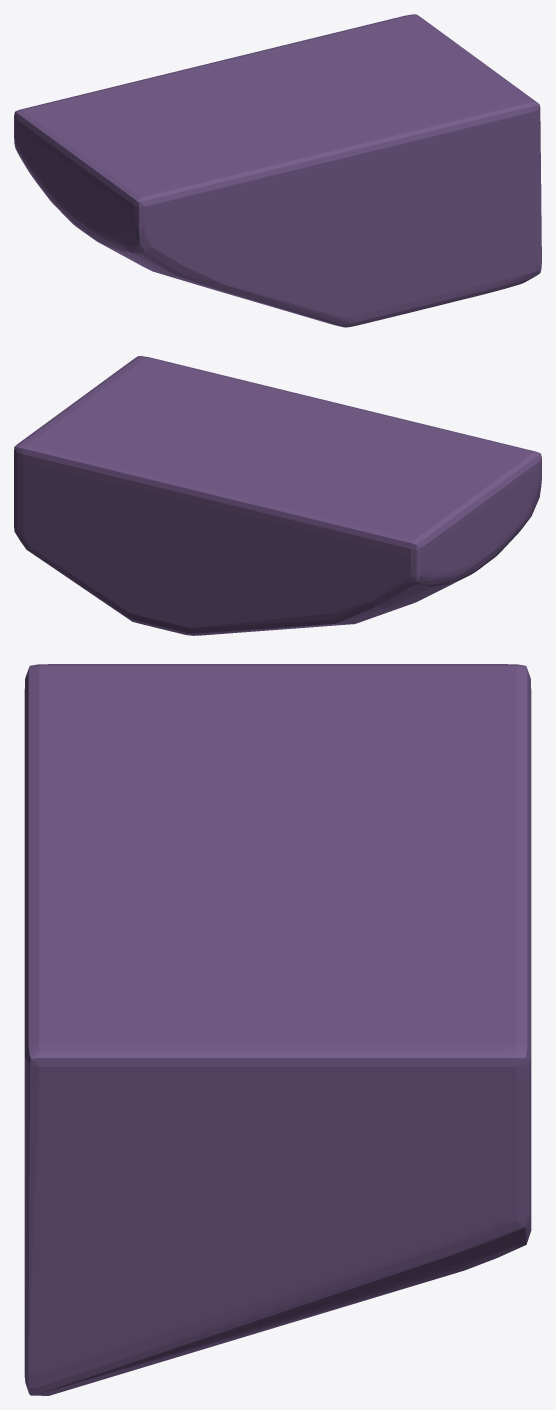
The model's file is right_hip_yaw_link_part_1.obj.
3 renders of one model, top to bottom at view 1: azimuth 30°, elevation 25°; view 2: azimuth 150°, elevation 25°; view 3: azimuth 270°, elevation 25°, orthographic. The views are drawn at different scales.
Bounding box in the file's own units: 0.0753 × 0.0332 × 0.0408.
